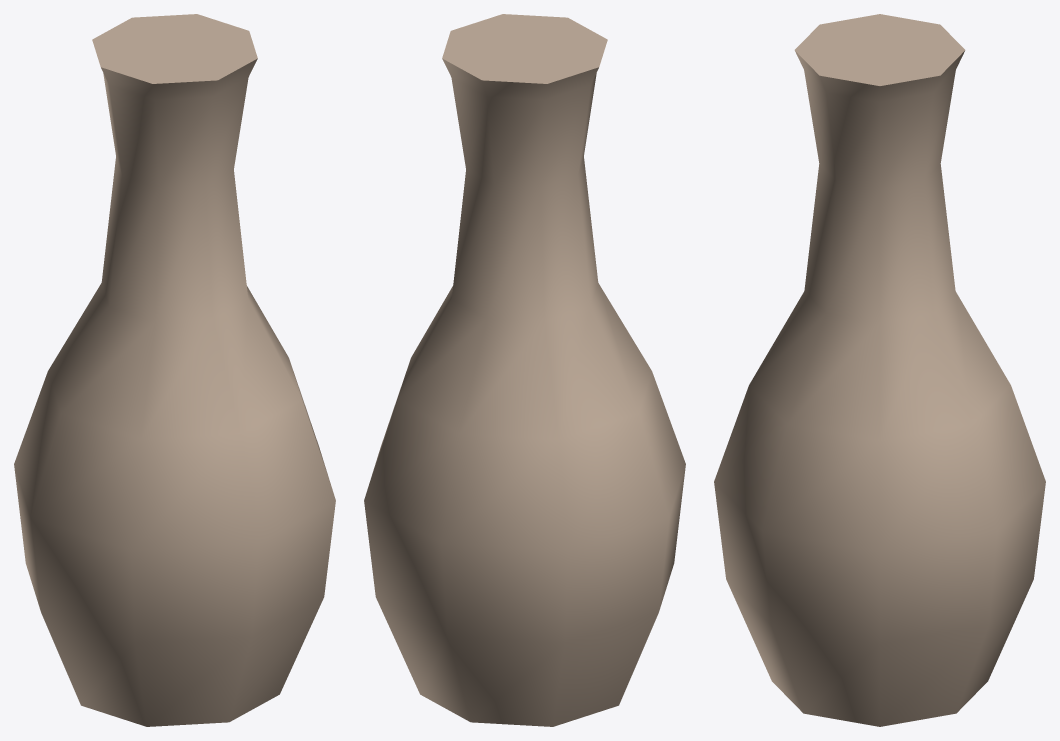
File: F_bossromm_pot2.fbx
3 views of the same model, side by side, from view 1: azimuth 30°, elevation 25°; view 2: azimuth 150°, elevation 25°; view 3: azimuth 270°, elevation 25° (orthographic).
Visible parts, largest first — view 1: boss_pot2; view 2: boss_pot2; view 3: boss_pot2.
Boxes of the visible parts, x1,y1,x2,y2 form: boss_pot2: (14, 14, 335, 726); boss_pot2: (364, 14, 685, 726); boss_pot2: (714, 14, 1045, 726).
Bounding box in the file's own units: 25.95 × 54.44 × 25.95.
